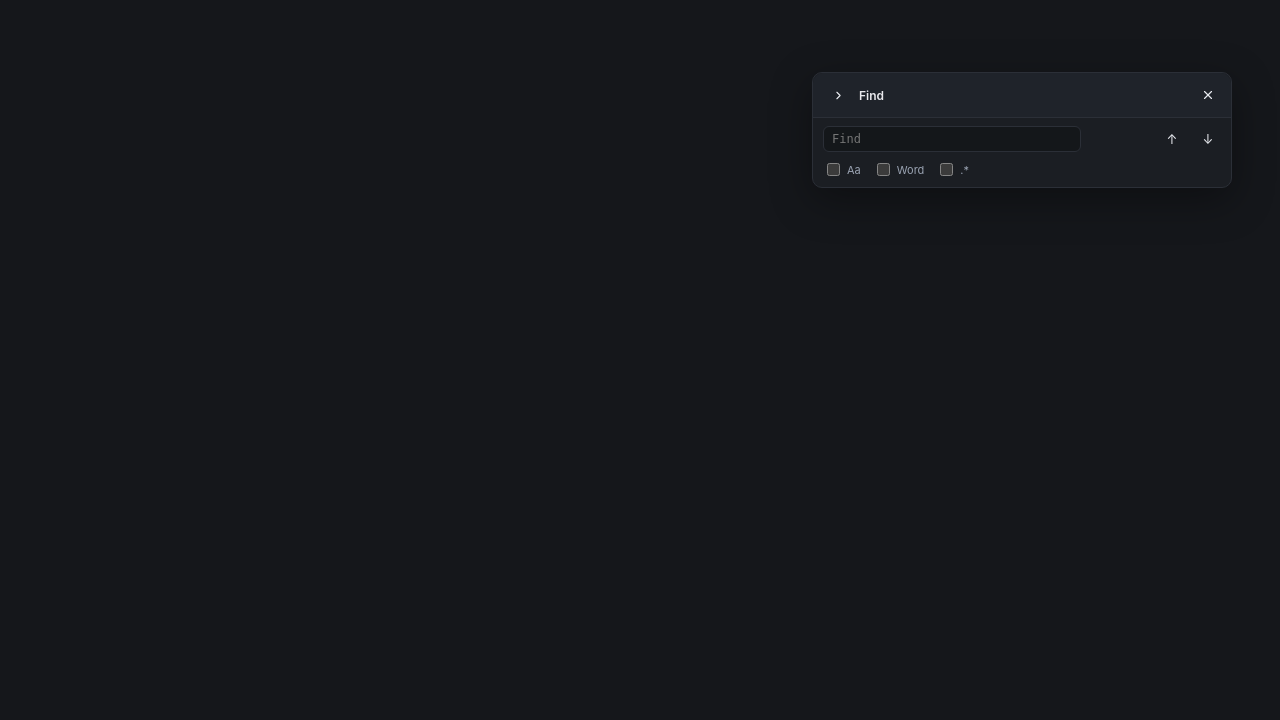
FindReplaceDialog › shows the match position and total
Type "x" into the field with test id "find-replace-query" at (952, 139), box [823, 126, 1081, 152]
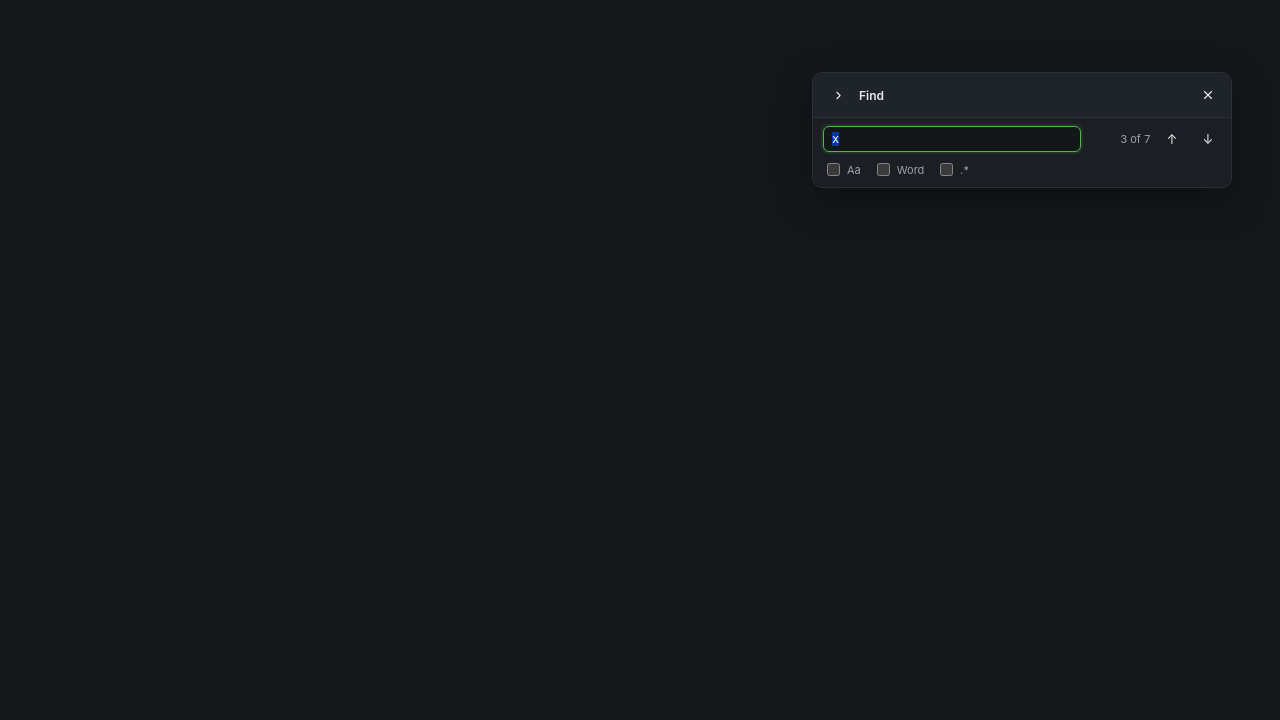
Check: the text with test id "find-replace-count" reads "3 of 7", box [1120, 132, 1151, 146]
